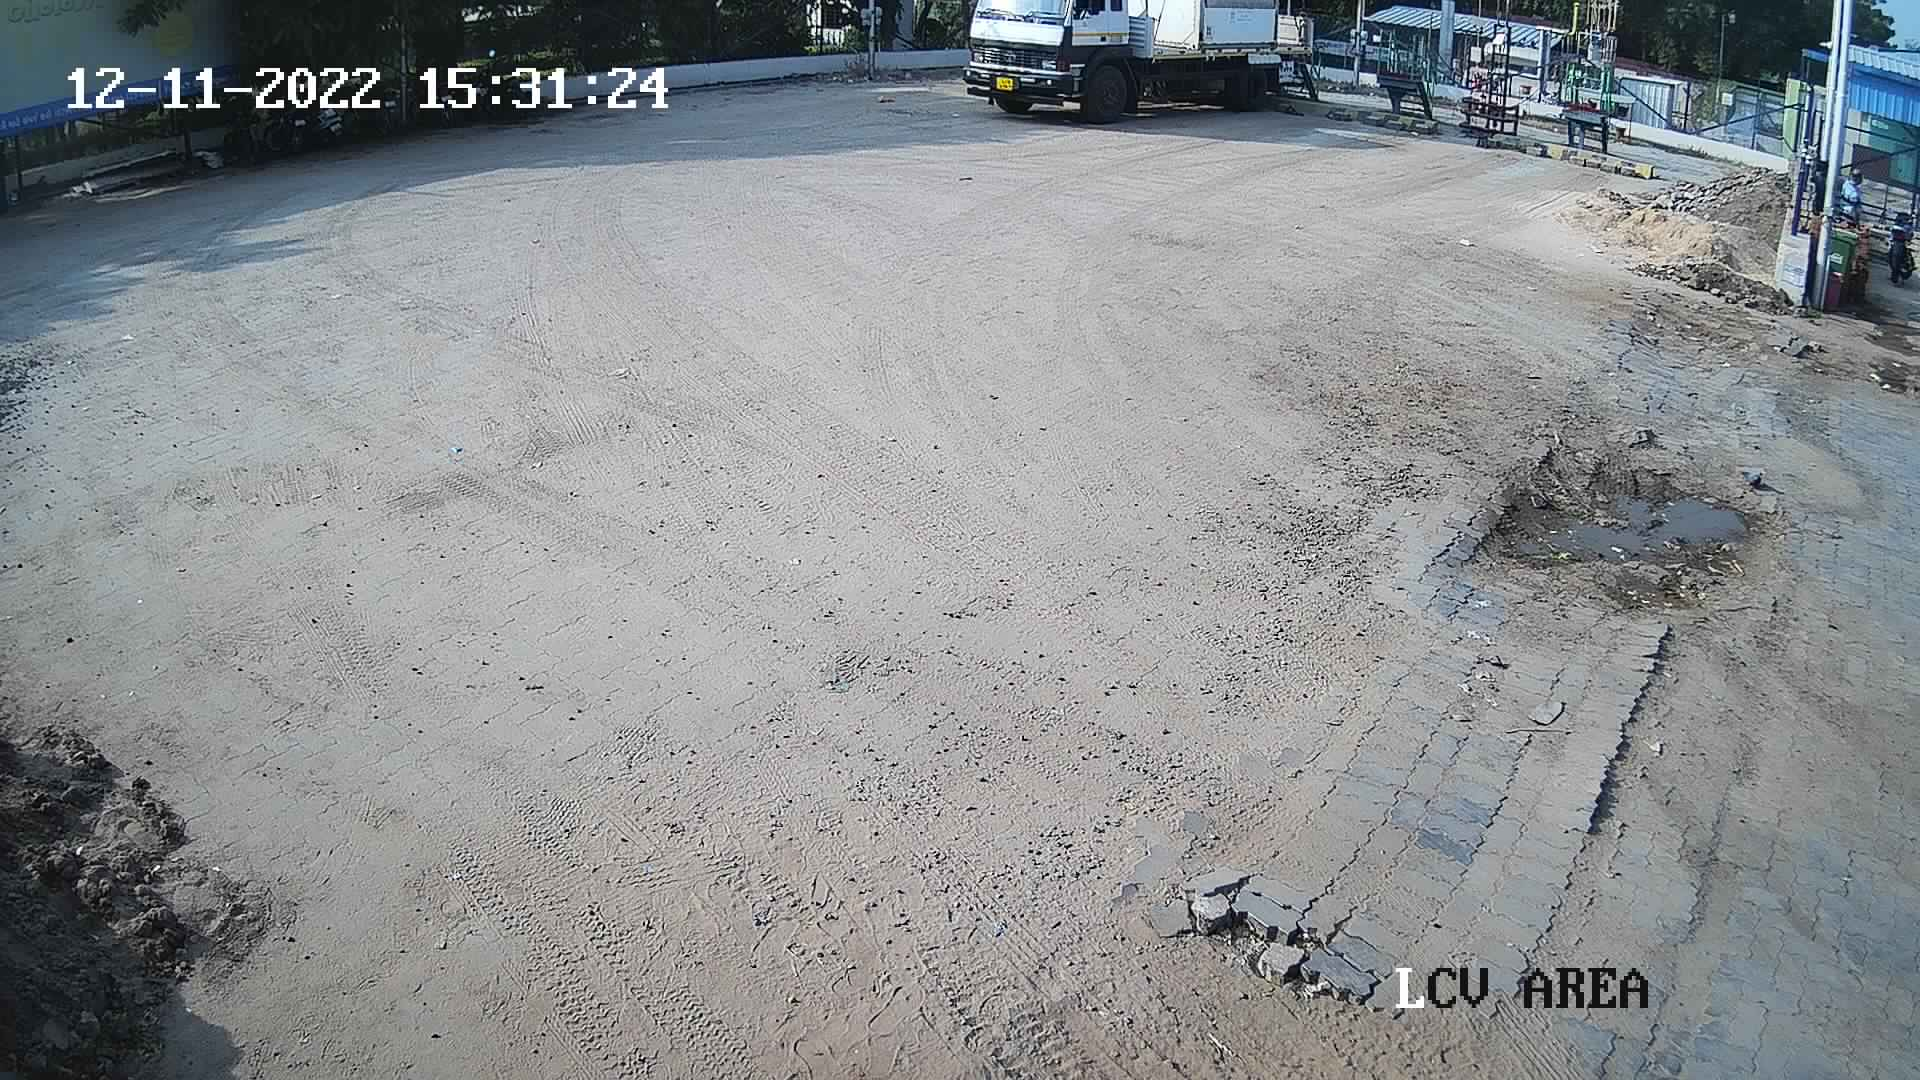Bike: (1880, 194, 1917, 299)
HMV: (947, 0, 1325, 131)
